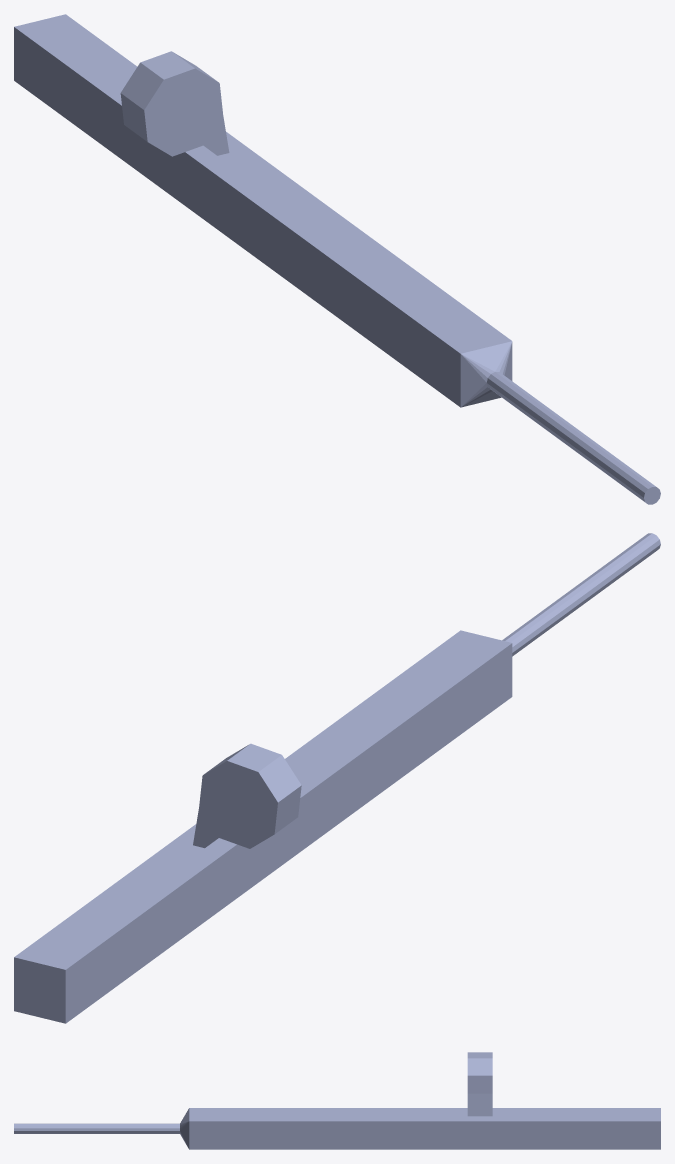
File: oerlikon_20mm_gun.fbx
The picture shows the model from 3 angles, top to bottom: view 1: azimuth 30°, elevation 25°; view 2: azimuth 150°, elevation 25°; view 3: azimuth 270°, elevation 25°; orthographic projection. The views are drawn at different scales.
Parts seen in each view (by area): view 1: Gun; view 2: Gun; view 3: Gun.
Boxes of the visible parts, x1,y1,x2,y2 form: Gun: (14, 14, 660, 504); Gun: (14, 533, 660, 1023); Gun: (14, 1052, 660, 1149).
Bounding box in the file's own units: 23.84 × 31.94 × 242.
